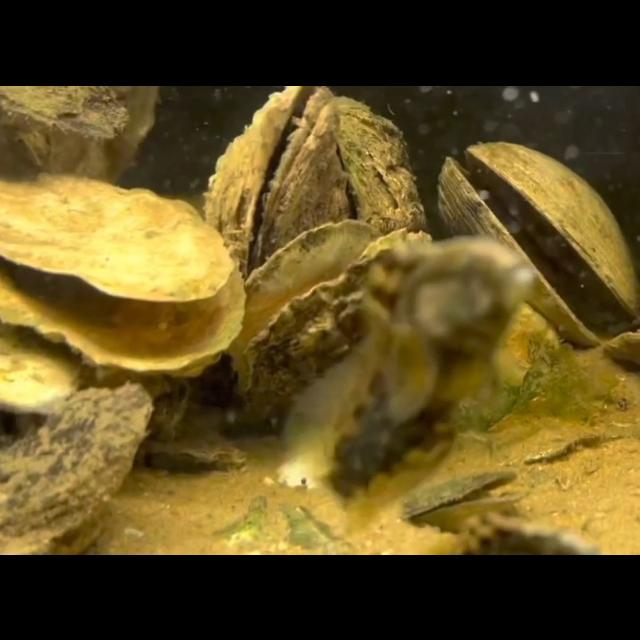Oyster-Closed: (0, 381, 156, 554), (432, 303, 564, 439), (335, 96, 429, 238), (0, 319, 86, 415), (0, 85, 136, 141)
Oyster-Open: (0, 173, 250, 375), (437, 138, 640, 347), (228, 220, 440, 400), (206, 85, 344, 283), (398, 464, 532, 532), (138, 416, 252, 476)
